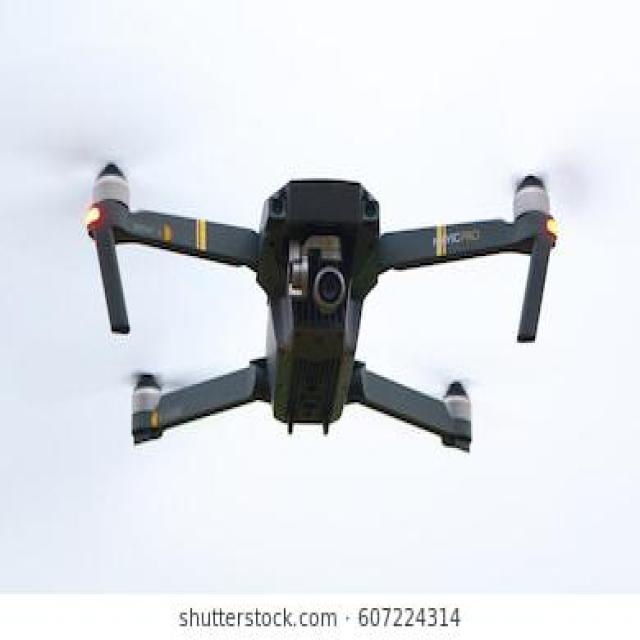drone: (79, 91, 565, 502)
